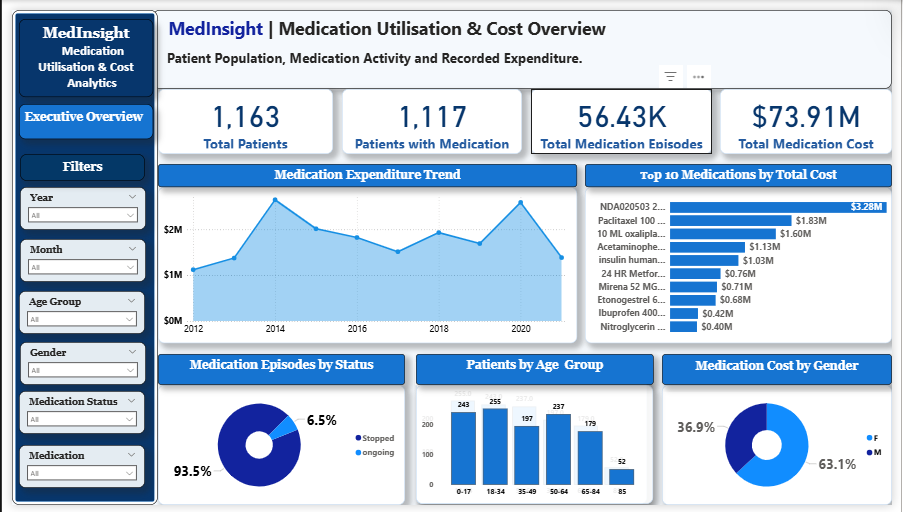

Layout of this report page (visuals, bound fields, positions):
{"tool":"powerbi","page":{"name":"Executive  Overview","canvas":[1600,900],"ordinal":0},"visuals":[{"type":"textbox","box":[256.5,0,1343.5,143.5],"z":0},{"type":"card","fields":{"Values":["DimPatient.Total Patients"]},"box":[265.5,143.6,318.2,118.2],"z":1000},{"type":"card","fields":{"Values":["FactMedication.Patients with Medication"]},"box":[600,143.6,327.3,118.2],"z":2000},{"type":"card","fields":{"Values":["FactMedication.Total Medication Episodes"]},"box":[943.6,143.6,329.1,118.2],"z":3000},{"type":"card","fields":{"Values":["FactMedication.Total Medication Cost"]},"box":[1287.3,143.6,312.7,118.2],"z":4000},{"type":"lineChart","fields":{"Y":["FactMedication.Total Medication Cost"],"Category":["DimDate.Year"]},"box":[265.5,321.8,761.8,283.6],"z":5000},{"type":"clusteredBarChart","fields":{"Category":["DimMedication.DESCRIPTION"],"Y":["FactMedication.Total Medication Cost"]},"box":[1041.8,321.8,558.2,283.6],"z":6000},{"type":"donutChart","fields":{"Category":["FactMedication.Medication_status"],"Y":["FactMedication.Total Medication Episodes"]},"box":[265.5,681.8,449.1,218.2],"z":7000},{"type":"clusteredColumnChart","title":"Patients by Age Group","fields":{"Y":["DimPatient.Total Patients"],"Category":["DimPatient.Age Group"]},"box":[734,640,420,258],"z":8000},{"type":"donutChart","fields":{"Category":["DimPatient.GENDER"],"Y":["FactMedication.Total Medication Cost"]},"box":[1181.8,681.8,418.2,218.2],"z":9000},{"type":"textbox","box":[265.5,280,761.8,41.8],"z":10000},{"type":"textbox","box":[1041.8,280,558.2,41.8],"z":11000},{"type":"textbox","box":[265.5,625.5,449.1,56.4],"z":12000},{"type":"textbox","box":[732,640,420,42],"z":13000},{"type":"clusteredColumnChart","fields":{"Y":["DimPatient.Total Patients"],"Category":["DimPatient.Age Group"]},"box":[734.5,681.8,430.9,216.4],"z":14000},{"type":"textbox","box":[734,626,432,56],"z":15000},{"type":"textbox","box":[1182,626,418,56],"z":16000},{"type":"shape","box":[0,0,265.5,900],"z":17000},{"type":"slicer","fields":{"Values":["DimDate.Year"]},"box":[14.5,321.8,229.1,78.2],"z":18000},{"type":"slicer","fields":{"Values":["DimDate.Month"]},"box":[14.5,416.4,229.1,78.2],"z":19000},{"type":"slicer","fields":{"Values":["DimPatient.Age Group"]},"box":[12.7,510.9,229.1,78.2],"z":20000},{"type":"slicer","fields":{"Values":["DimPatient.GENDER"]},"box":[14.5,603.6,229.1,78.2],"z":21000},{"type":"slicer","fields":{"Values":["FactMedication.Medication_status"]},"box":[12.7,692.7,229.1,78.2],"z":22000},{"type":"slicer","fields":{"Values":["DimMedication.DESCRIPTION"]},"box":[12.7,790.9,229.1,78.2],"z":23000},{"type":"textbox","box":[14.5,261.8,227.3,49.1],"z":24000},{"type":"textbox","box":[12.7,16.4,243.6,141.8],"z":25000},{"type":"textbox","box":[12.7,170.9,243.6,63.6],"z":26000}]}

Visuals, with their boxes in screenshot pixels (x1, y1, x2, y2), scaled from the page's 1600x900 canvas onto the 903x512 screenshot:
textbox: {"x1": 145, "y1": 0, "x2": 902, "y2": 82}
card - DimPatient.Total Patients: {"x1": 150, "y1": 82, "x2": 329, "y2": 149}
card - FactMedication.Patients with Medication: {"x1": 339, "y1": 82, "x2": 523, "y2": 149}
card - FactMedication.Total Medication Episodes: {"x1": 533, "y1": 82, "x2": 718, "y2": 149}
card - FactMedication.Total Medication Cost: {"x1": 727, "y1": 82, "x2": 902, "y2": 149}
lineChart - FactMedication.Total Medication Cost x DimDate.Year: {"x1": 150, "y1": 183, "x2": 580, "y2": 344}
clusteredBarChart - DimMedication.DESCRIPTION x FactMedication.Total Medication Cost: {"x1": 588, "y1": 183, "x2": 902, "y2": 344}
donutChart - FactMedication.Medication_status x FactMedication.Total Medication Episodes: {"x1": 150, "y1": 388, "x2": 403, "y2": 511}
"Patients by Age Group" clusteredColumnChart: {"x1": 414, "y1": 364, "x2": 651, "y2": 511}
donutChart - DimPatient.GENDER x FactMedication.Total Medication Cost: {"x1": 667, "y1": 388, "x2": 902, "y2": 511}
textbox: {"x1": 150, "y1": 159, "x2": 580, "y2": 183}
textbox: {"x1": 588, "y1": 159, "x2": 902, "y2": 183}
textbox: {"x1": 150, "y1": 356, "x2": 403, "y2": 388}
textbox: {"x1": 413, "y1": 364, "x2": 650, "y2": 388}
clusteredColumnChart - DimPatient.Total Patients x DimPatient.Age Group: {"x1": 415, "y1": 388, "x2": 658, "y2": 511}
textbox: {"x1": 414, "y1": 356, "x2": 658, "y2": 388}
textbox: {"x1": 667, "y1": 356, "x2": 902, "y2": 388}
shape: {"x1": 0, "y1": 0, "x2": 150, "y2": 511}
slicer - DimDate.Year: {"x1": 8, "y1": 183, "x2": 137, "y2": 228}
slicer - DimDate.Month: {"x1": 8, "y1": 237, "x2": 137, "y2": 281}
slicer - DimPatient.Age Group: {"x1": 7, "y1": 291, "x2": 136, "y2": 335}
slicer - DimPatient.GENDER: {"x1": 8, "y1": 343, "x2": 137, "y2": 388}
slicer - FactMedication.Medication_status: {"x1": 7, "y1": 394, "x2": 136, "y2": 439}
slicer - DimMedication.DESCRIPTION: {"x1": 7, "y1": 450, "x2": 136, "y2": 494}
textbox: {"x1": 8, "y1": 149, "x2": 136, "y2": 177}
textbox: {"x1": 7, "y1": 9, "x2": 145, "y2": 90}
textbox: {"x1": 7, "y1": 97, "x2": 145, "y2": 133}
